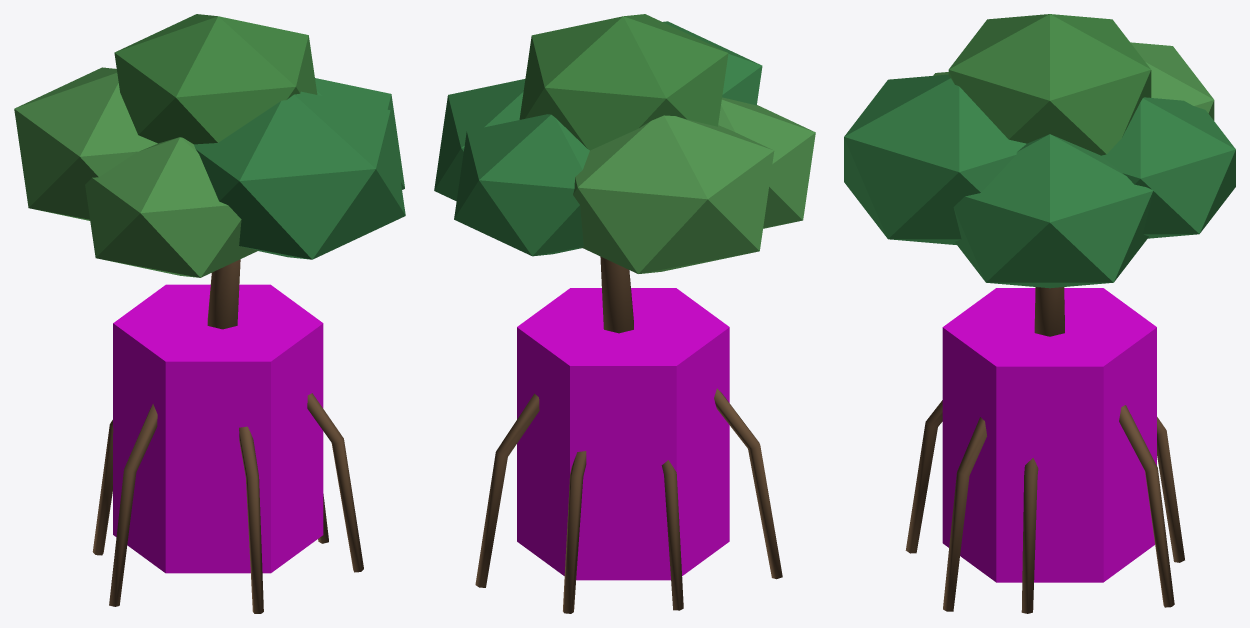
File: mangrove-CdAsdIJA.glb
3 views of the same model, side by side, from view 1: azimuth 30°, elevation 25°; view 2: azimuth 150°, elevation 25°; view 3: azimuth 270°, elevation 25° (orthographic). The views are drawn at different scales.
Parts seen in each view (by area): view 1: mangrove, COLP_mangrove; view 2: mangrove, COLP_mangrove; view 3: mangrove, COLP_mangrove.
Boxes of the visible parts, x1,y1,x2,y2 form: mangrove: [14, 14, 405, 613]; COLP_mangrove: [113, 284, 323, 573]; mangrove: [434, 14, 815, 613]; COLP_mangrove: [517, 288, 729, 580]; mangrove: [844, 14, 1235, 613]; COLP_mangrove: [942, 288, 1156, 582].
Size of the model in its own units: 3.32 by 5.11 by 3.29.
